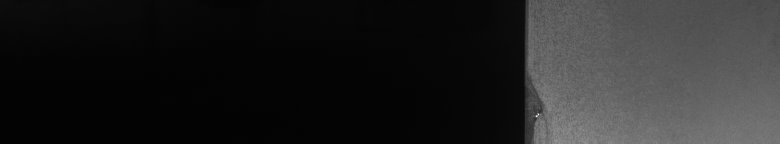hb: (536, 84, 561, 128)
